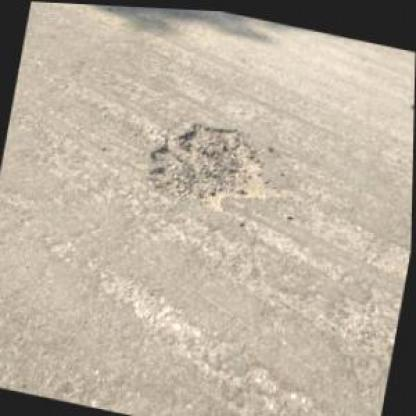pothole: (138, 106, 292, 224)
